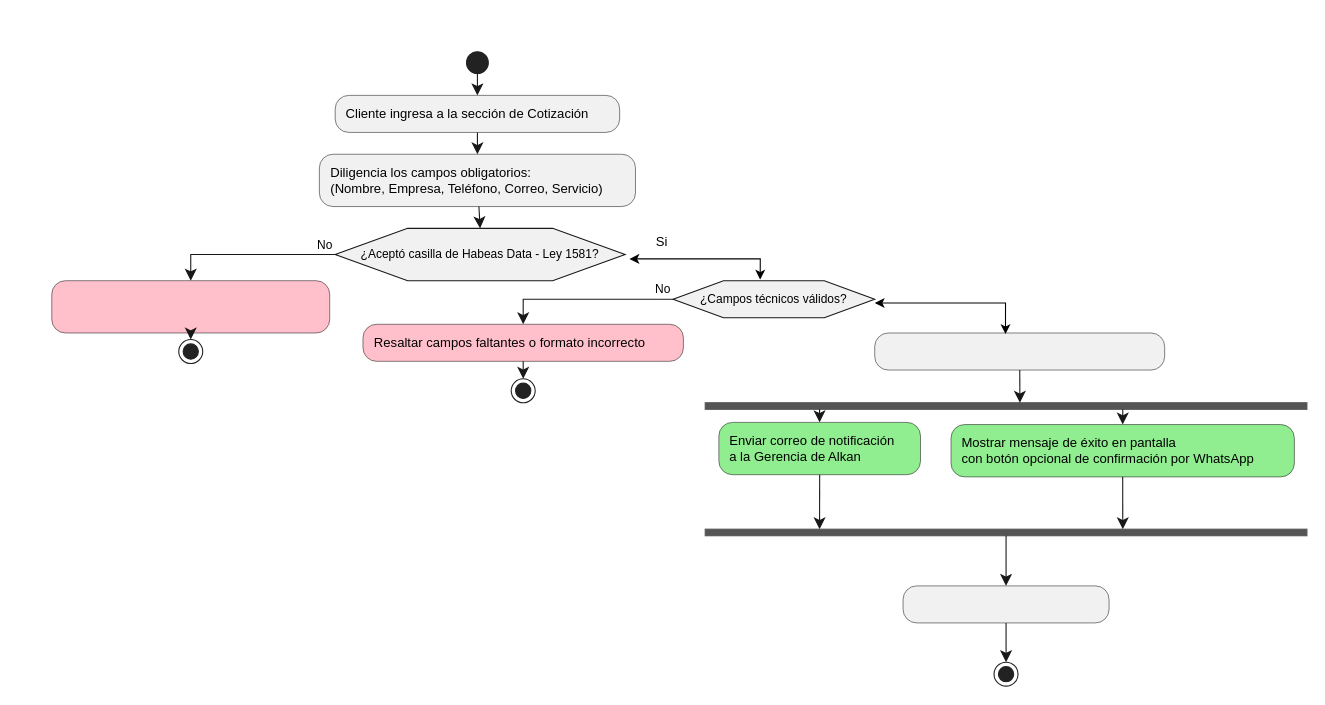
This 1325x705 diagram has some shape labels left out. The shapes that lost their labels are listed below. From the top down, each one's centre as x and y in pixels, then its label:
(190,306): Mostrar alerta de validación: "Debe autorizar el tratamiento de datos"
(1019,351): Procesar solicitud y aplicar filtro Antispam
(1005,604): Fin del proceso de cotización
